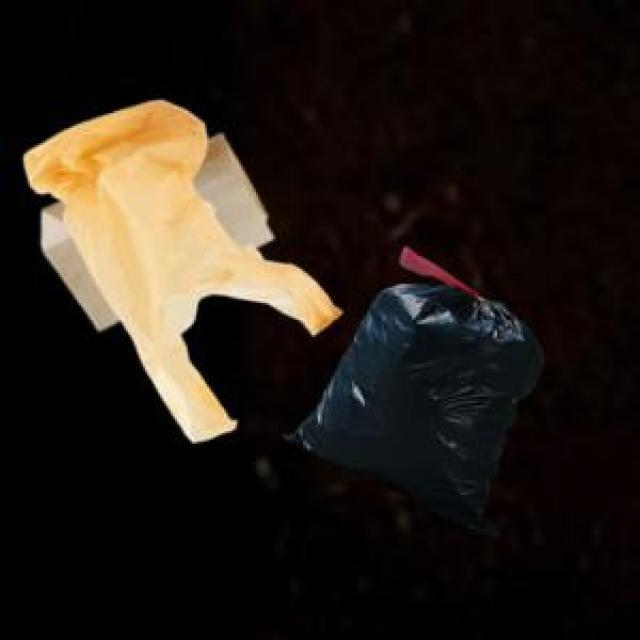miscellaneous trash: (280, 243, 540, 533)
paper: (38, 130, 269, 326)
